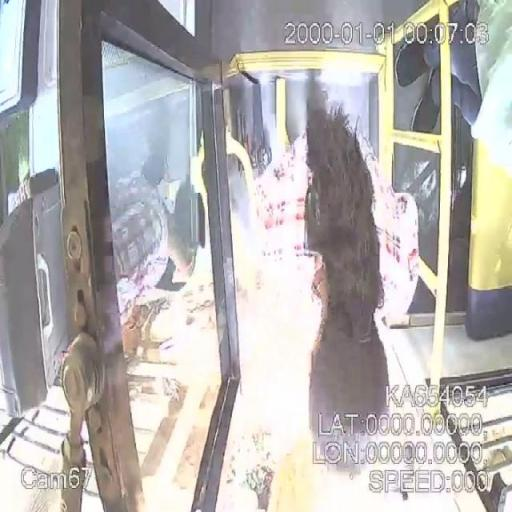persona: (296, 101, 422, 470)
